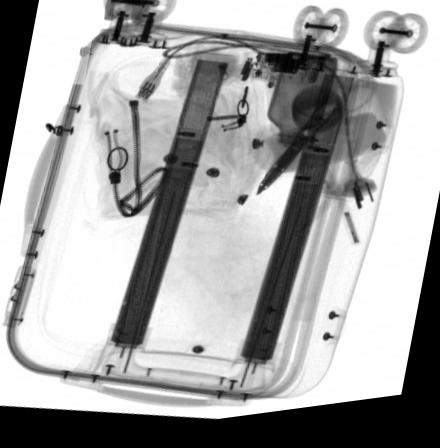Scissors: (256, 69, 381, 205)
